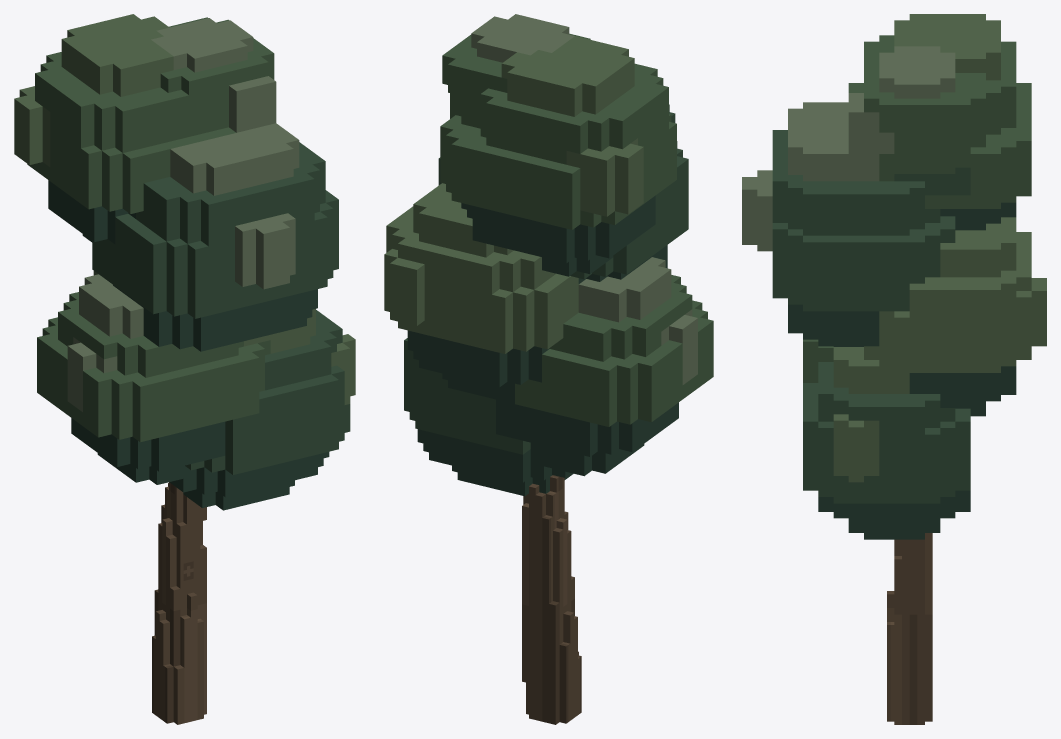
File: juniper_mature_2_picked.glb
The picture shows the model from 3 angles, left to right: view 1: azimuth 30°, elevation 25°; view 2: azimuth 150°, elevation 25°; view 3: azimuth 270°, elevation 25°; orthographic projection.
Visible parts, largest first — view 1: VoxelVisual; view 2: VoxelVisual; view 3: VoxelVisual.
Part boxes in pixels (x1=…): VoxelVisual: x1=14, y1=14, x2=355, y2=724; VoxelVisual: x1=384, y1=14, x2=713, y2=724; VoxelVisual: x1=742, y1=14, x2=1046, y2=724.
Size of what is drawn, in the model's own units: 5 by 12 by 5.
